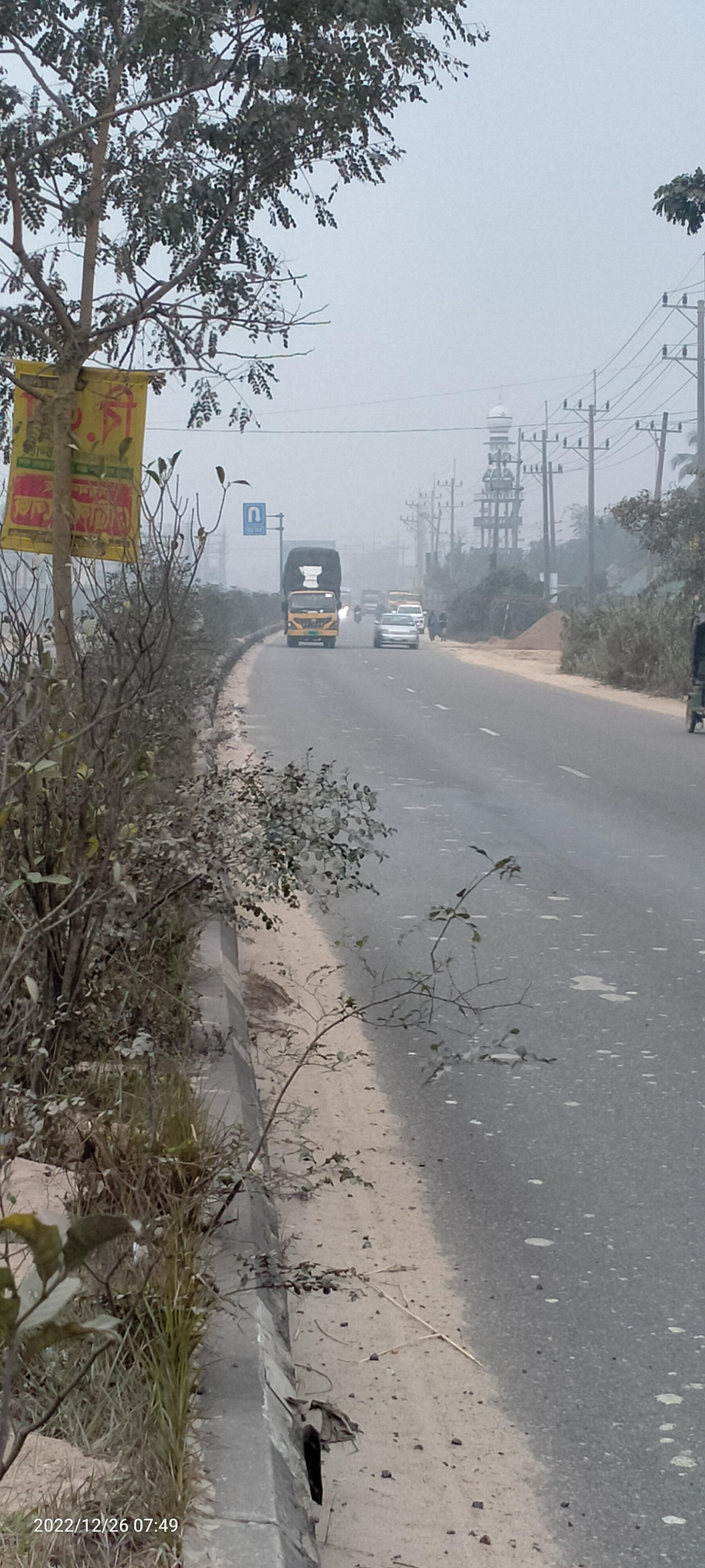Bike: (348, 598, 370, 633)
Car: (375, 606, 425, 655)
Truck: (277, 542, 346, 649)
